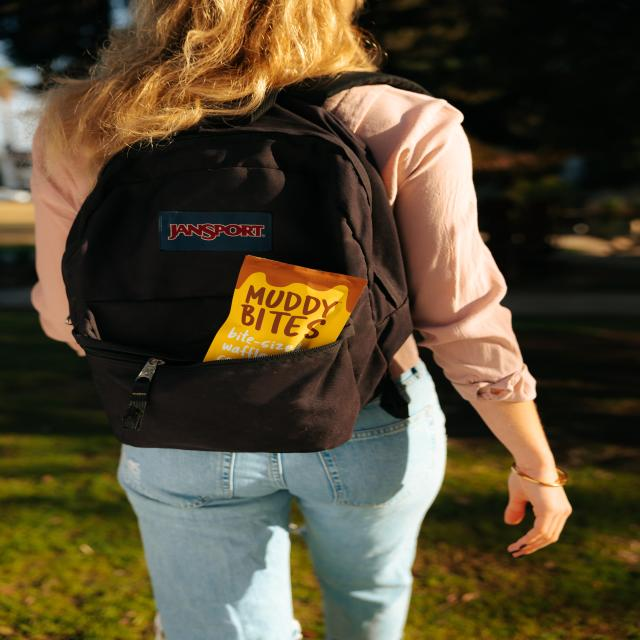backpack: (94, 72, 436, 440)
